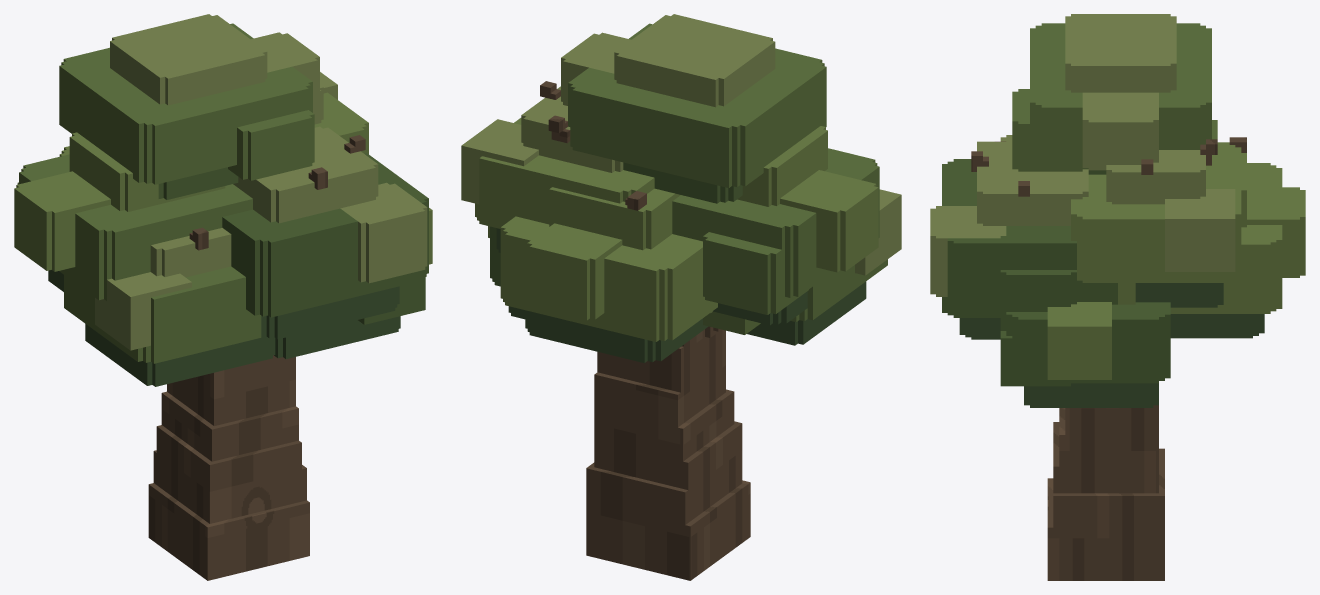
The model's file is oak_ancient_spring.glb.
3 views of the same model, side by side, from view 1: azimuth 30°, elevation 25°; view 2: azimuth 150°, elevation 25°; view 3: azimuth 270°, elevation 25° (orthographic). The views are drawn at different scales.
Parts seen in each view (by area): view 1: VoxelVisual; view 2: VoxelVisual; view 3: VoxelVisual.
Boxes of the visible parts, x1,y1,x2,y2 form: VoxelVisual: (14,14,432,580); VoxelVisual: (461,14,901,580); VoxelVisual: (930,14,1305,580).
Size of what is drawn, in the model's own units: 18 by 23.5 by 16.
